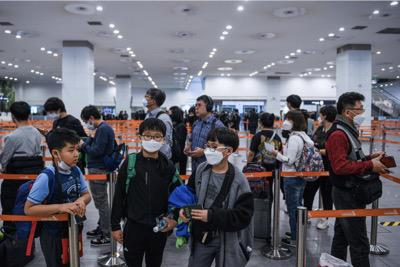mask_weared_incorrect: (59, 144, 78, 167)
with_mask: (203, 141, 224, 166), (140, 131, 162, 152), (351, 104, 364, 127), (81, 120, 95, 132), (282, 117, 292, 132), (141, 95, 150, 108), (46, 111, 59, 120), (316, 114, 323, 125)
without_mask: (194, 102, 206, 117)
